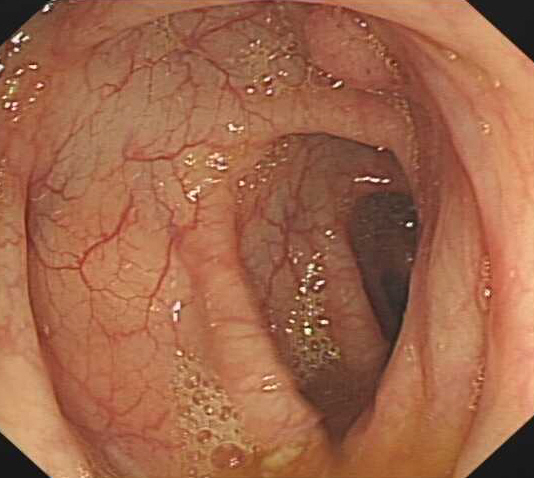adenoma: (299, 6, 406, 97)
